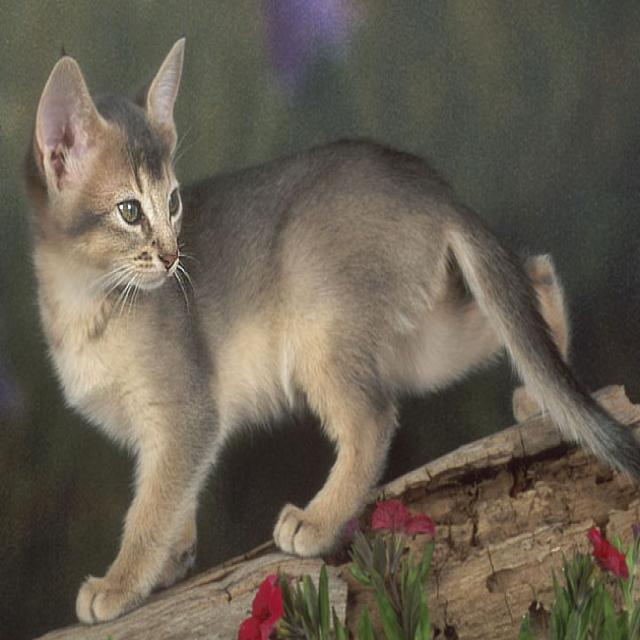Abyssinian: (19, 32, 640, 626)
